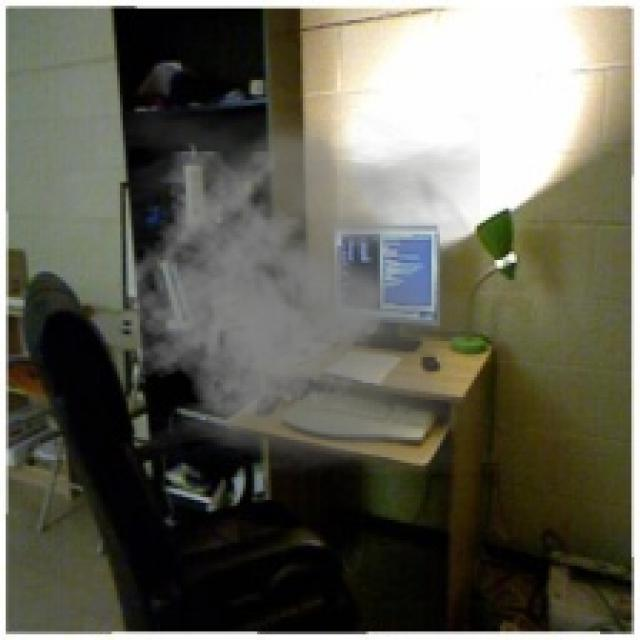Smoke: (114, 112, 480, 474)
